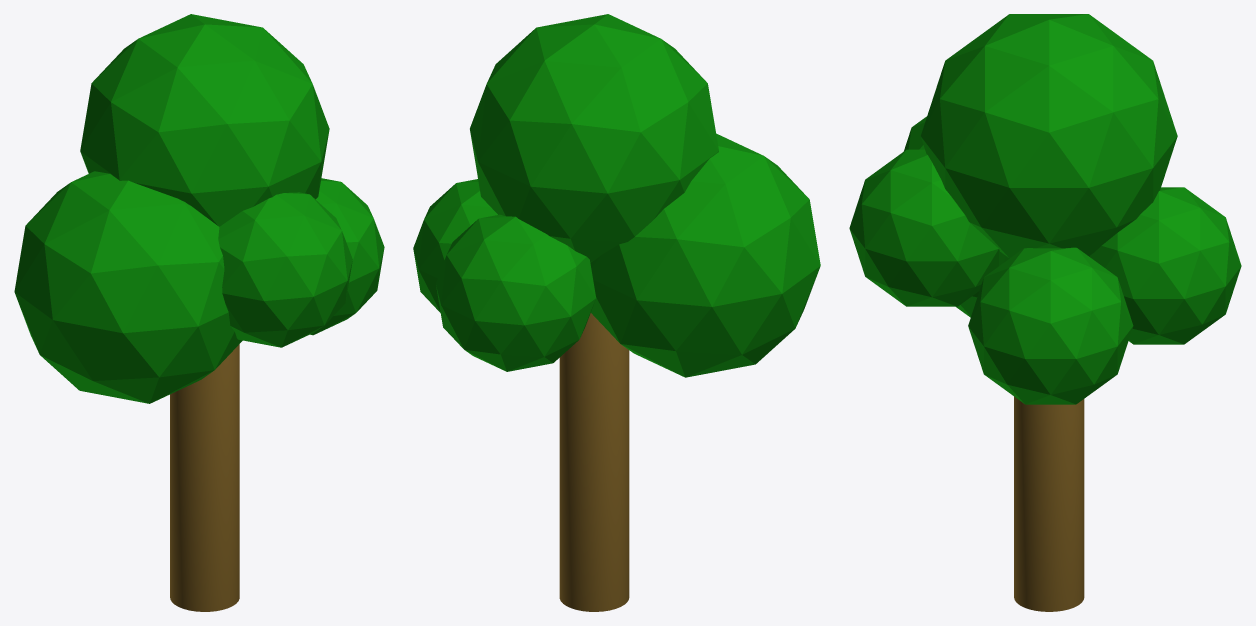
The model's file is Ağaç 5.fbx.
3 views of the same model, side by side, from view 1: azimuth 30°, elevation 25°; view 2: azimuth 150°, elevation 25°; view 3: azimuth 270°, elevation 25° (orthographic).
Parts seen in each view (by area): view 1: YAPRAK.004, YAPRAK, GÖVDE, YAPRAK.001, YAPRAK.003; view 2: YAPRAK, YAPRAK.004, GÖVDE, YAPRAK.002, YAPRAK.003; view 3: YAPRAK, YAPRAK.003, YAPRAK.001, YAPRAK.002, GÖVDE, YAPRAK.004.
Part boxes in pixels (left/top/right/bottom): YAPRAK.004: left=14, top=171, right=242, bottom=403; YAPRAK: left=80, top=14, right=329, bottom=226; GÖVDE: left=170, top=344, right=239, bottom=611; YAPRAK.001: left=218, top=192, right=352, bottom=347; YAPRAK.003: left=310, top=178, right=384, bottom=335; YAPRAK: left=470, top=14, right=718, bottom=262; YAPRAK.004: left=590, top=133, right=820, bottom=377; GÖVDE: left=559, top=313, right=629, bottom=611; YAPRAK.002: left=436, top=214, right=595, bottom=371; YAPRAK.003: left=413, top=179, right=497, bottom=312; YAPRAK: left=920, top=14, right=1177, bottom=258; YAPRAK.003: left=968, top=247, right=1133, bottom=404; YAPRAK.001: left=849, top=149, right=1005, bottom=306; YAPRAK.002: left=1089, top=187, right=1241, bottom=344; GÖVDE: left=1014, top=396, right=1084, bottom=611; YAPRAK.004: left=904, top=116, right=1009, bottom=317.
Size of what is drawn, in the model's own units: 323 by 496 by 305.
